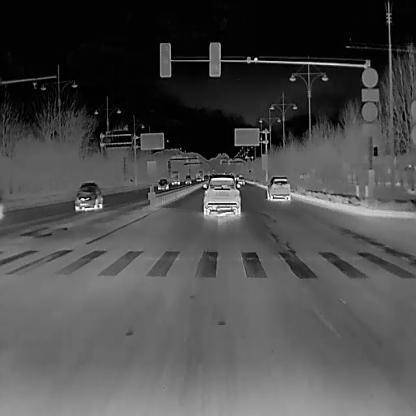car: (202, 173, 241, 217), (73, 180, 103, 210), (264, 175, 290, 200), (169, 169, 180, 184), (157, 177, 168, 189), (238, 176, 245, 184), (184, 175, 191, 183)
